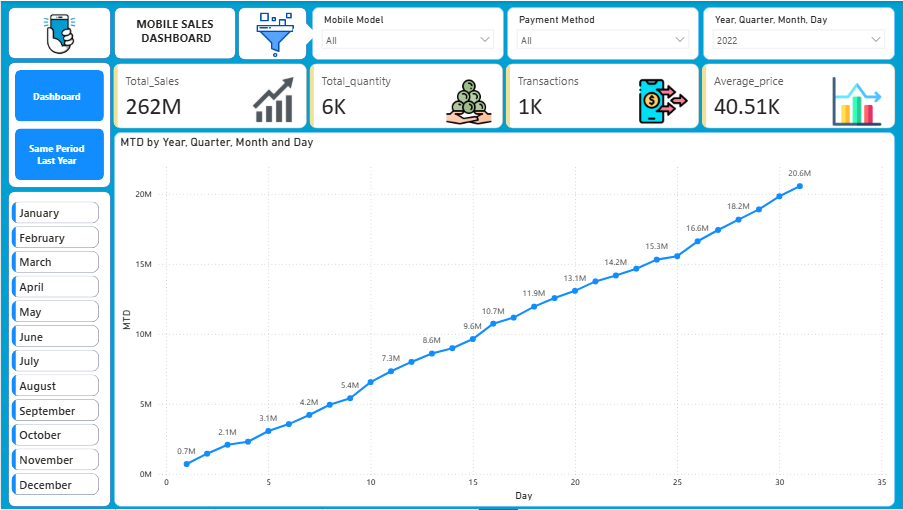

This screenshot's page, from the dashboard's own definition file:
{"tool":"powerbi","page":{"name":"MTD Report","canvas":[1280,720],"ordinal":1},"visuals":[{"type":"shape","box":[9.9,8.5,146,73.7],"z":0},{"type":"image","box":[18.4,14.2,129,65.2],"z":1000},{"type":"shape","box":[9.9,86.5,146,178],"z":2000},{"type":"cardVisual","fields":{"Data":["Mobile_Sales_Data.Total_Sales","Mobile_Sales_Data.Total_quantity","Mobile_Sales_Data.Transactions","Mobile_Sales_Data.Average_price"]},"box":[147.4,76.5,1132.4,116.2],"z":3000},{"type":"image","box":[340.2,107.7,90.7,63.8],"z":4000},{"type":"image","box":[622.2,109.1,82.2,68],"z":5000},{"type":"image","box":[898.6,107.7,80.8,69.4],"z":6000},{"type":"image","box":[1170.7,107.7,85,69.4],"z":7000},{"type":"slicer","fields":{"Values":["Mobile_Sales_Data.Mobile Model"]},"box":[440.8,8.5,272.1,75.1],"z":8000},{"type":"slicer","fields":{"Values":["Mobile_Sales_Data.Payment Method"]},"box":[717.2,8.5,272.1,75.1],"z":9000},{"type":"slicer","fields":{"Values":["Custom_Calendar.Date.Variation.Date Hierarchy.Year","Custom_Calendar.Date.Variation.Date Hierarchy.Quarter","Custom_Calendar.Date.Variation.Date Hierarchy.Month","Custom_Calendar.Date.Variation.Date Hierarchy.Day"]},"box":[995,8.5,272.1,75.1],"z":10000},{"type":"shape","box":[335.9,8.5,97.8,75.1],"z":11000},{"type":"image","box":[340.2,15.6,97.8,65.2],"z":12000},{"type":"shape","box":[413.9,31.2,34,31.2],"z":13000},{"type":"shape","box":[160.2,8.5,172.9,74],"z":14000},{"type":"textbox","box":[178.6,15.6,140.3,60.9],"z":15000},{"type":"shape","box":[9.9,269.3,146,447.9],"z":16000},{"type":"lineChart","title":"MTD by Year, Quarter, Month and Day","fields":{"Y":["Mobile_Sales_Data.MTD"],"Category":["Custom_Calendar.Date.Variation.Date Hierarchy.Year","Custom_Calendar.Date.Variation.Date Hierarchy.Quarter","Custom_Calendar.Date.Variation.Date Hierarchy.Month","Custom_Calendar.Date.Variation.Date Hierarchy.Day"]},"box":[160.2,185.7,1106.9,531.5],"z":17000},{"type":"advancedSlicerVisual","fields":{"Values":["Custom_Calendar.Date.Variation.Date Hierarchy.Month"]},"box":[9.9,279.2,134.6,429.4],"z":18000},{"type":"pageNavigator","box":[19.8,97.8,126.1,157.3],"z":19000}]}

Visuals, with their boxes in screenshot pixels (x1, y1, x2, y2), scaled from the page's 1280x720 canvas onto the 903x510 screenshot:
shape: <region>7, 6, 110, 58</region>
image: <region>13, 10, 104, 56</region>
shape: <region>7, 61, 110, 187</region>
cardVisual - Mobile_Sales_Data.Total_Sales x Mobile_Sales_Data.Total_quantity: <region>104, 54, 902, 136</region>
image: <region>240, 76, 304, 121</region>
image: <region>439, 77, 497, 125</region>
image: <region>634, 76, 691, 125</region>
image: <region>826, 76, 886, 125</region>
slicer - Mobile_Sales_Data.Mobile Model: <region>311, 6, 503, 59</region>
slicer - Mobile_Sales_Data.Payment Method: <region>506, 6, 698, 59</region>
slicer - Custom_Calendar.Date.Variation.Date Hierarchy.Year x Custom_Calendar.Date.Variation.Date Hierarchy.Quarter: <region>702, 6, 894, 59</region>
shape: <region>237, 6, 306, 59</region>
image: <region>240, 11, 309, 57</region>
shape: <region>292, 22, 316, 44</region>
shape: <region>113, 6, 235, 58</region>
textbox: <region>126, 11, 225, 54</region>
shape: <region>7, 191, 110, 508</region>
"MTD by Year, Quarter, Month and Day" lineChart: <region>113, 132, 894, 508</region>
advancedSlicerVisual - Custom_Calendar.Date.Variation.Date Hierarchy.Month: <region>7, 198, 102, 502</region>
pageNavigator: <region>14, 69, 103, 181</region>
